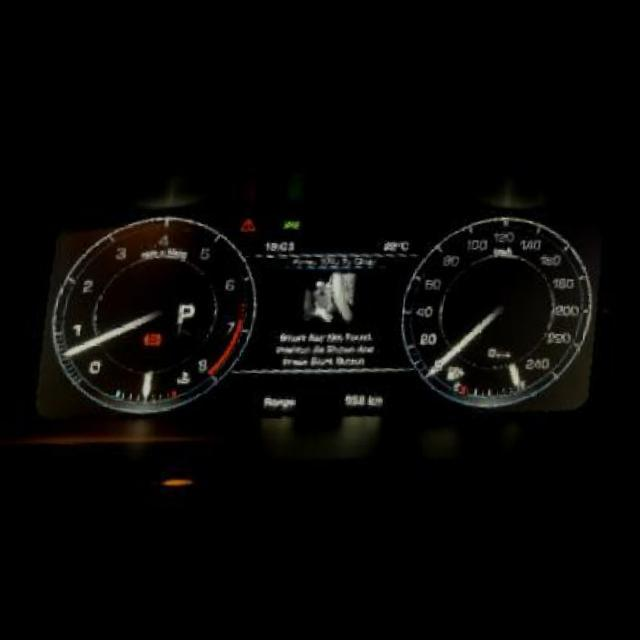Engine cooling system: (178, 370, 196, 390)
Low fuel level: (446, 370, 464, 390)
